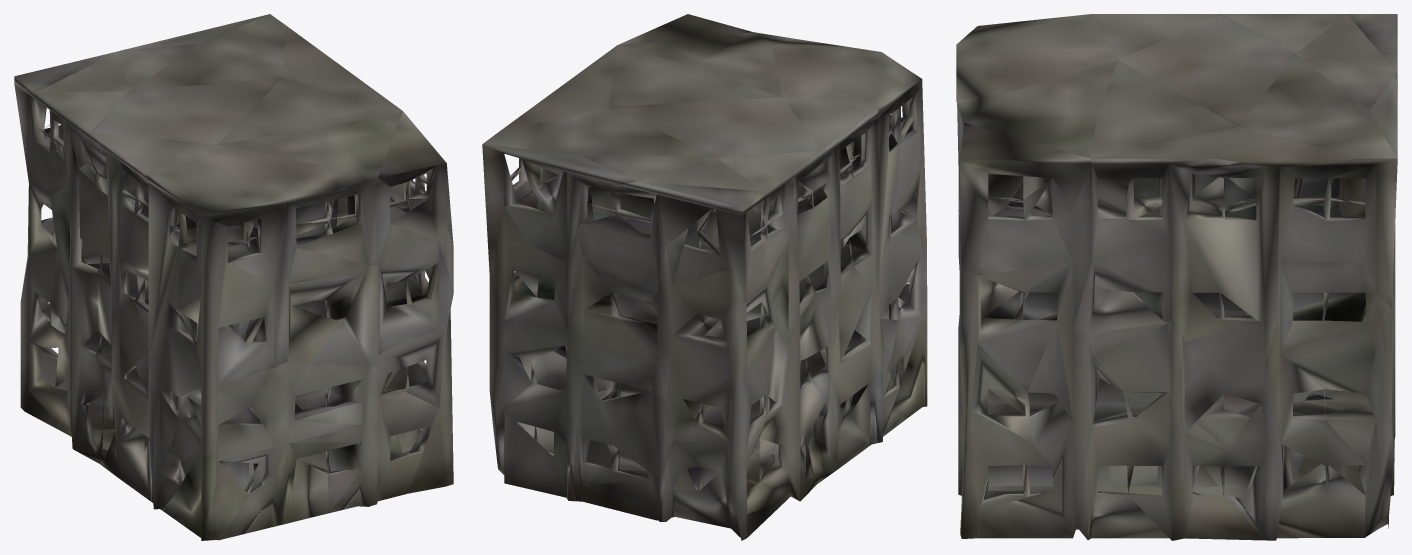
File: warehouse-lod.glb
3 views of the same model, side by side, from view 1: azimuth 30°, elevation 25°; view 2: azimuth 150°, elevation 25°; view 3: azimuth 270°, elevation 25° (orthographic). The views are drawn at different scales.
Parts seen in each view (by area): view 1: tripo_node_4810b703; view 2: tripo_node_4810b703; view 3: tripo_node_4810b703.
Boxes of the visible parts, <box> form: tripo_node_4810b703: <box>14,14,453,540</box>; tripo_node_4810b703: <box>482,14,927,540</box>; tripo_node_4810b703: <box>956,14,1397,540</box>.
Bounding box in the file's own units: 0.7744 × 0.9612 × 0.9996.
1 material, 1 textured.
